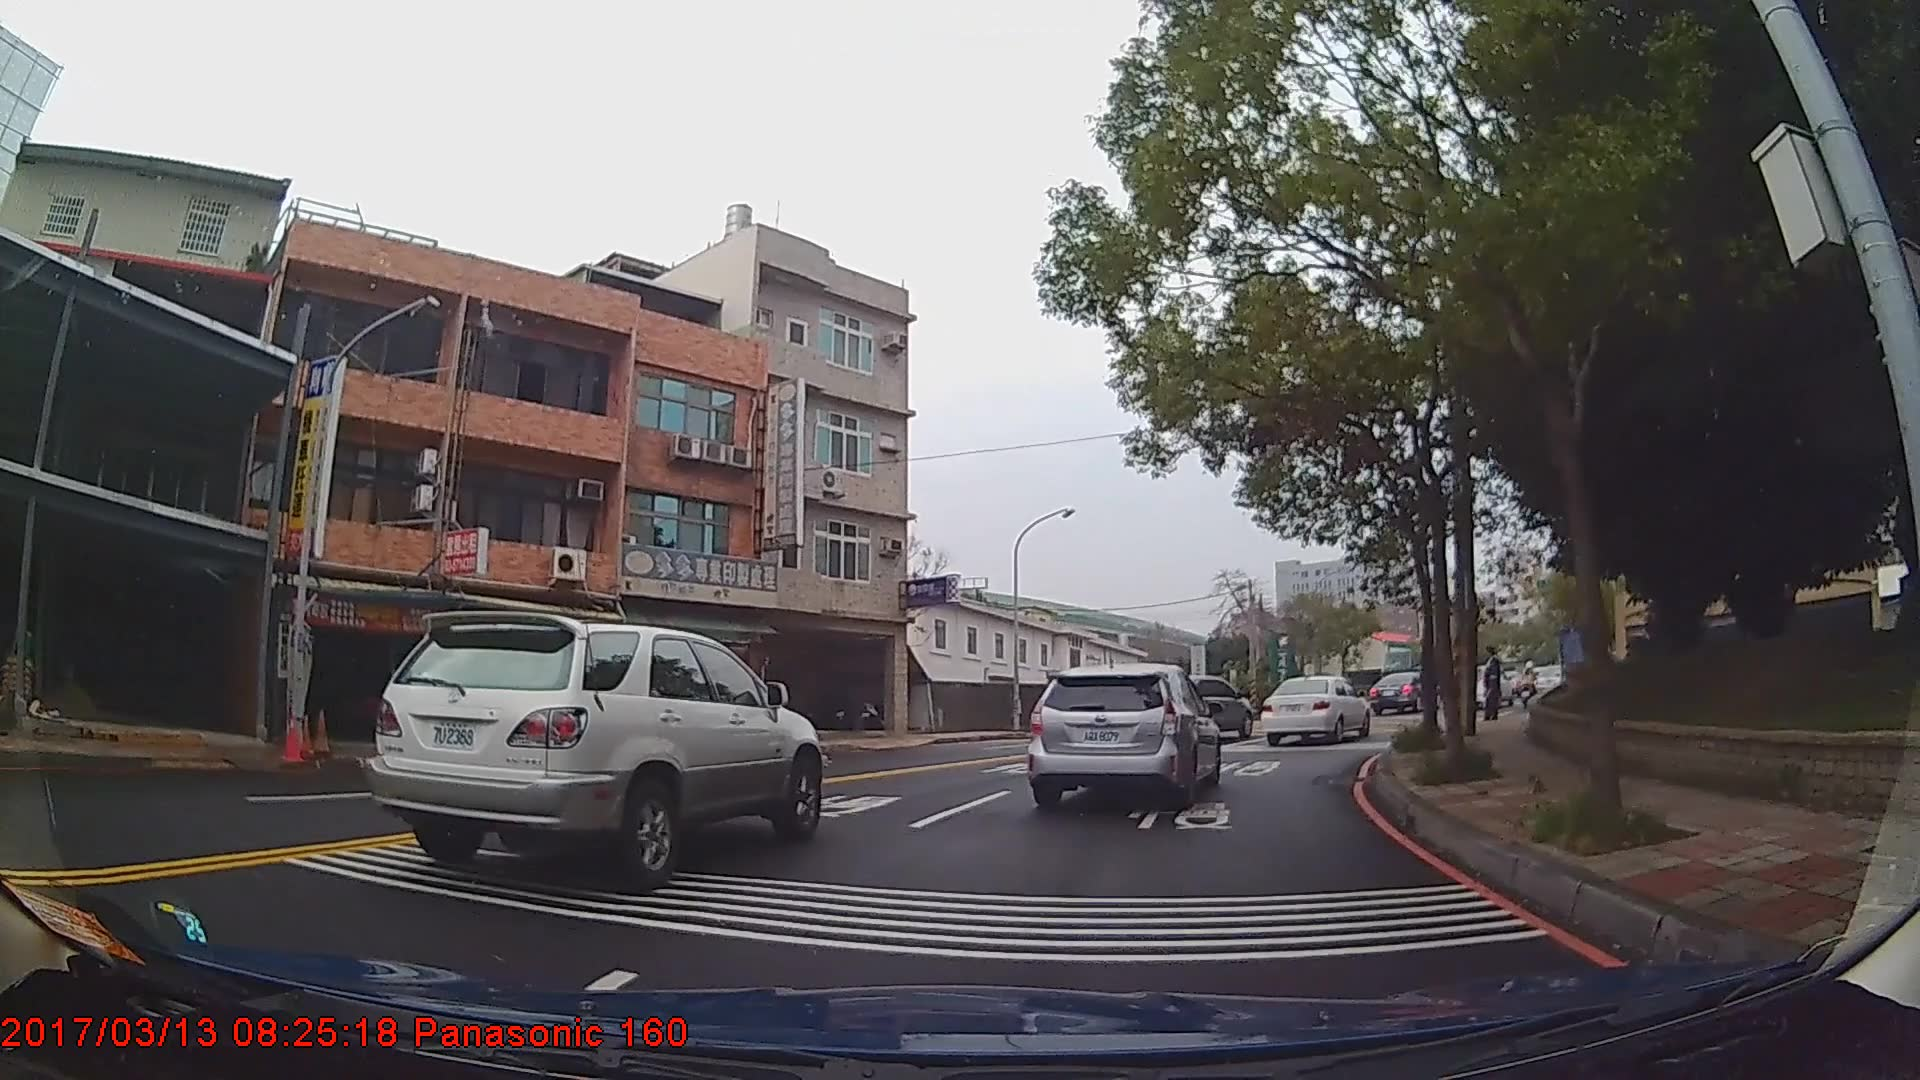vehicle: (364, 608, 825, 893), (1025, 661, 1220, 814), (1255, 673, 1369, 744), (1158, 673, 1255, 742), (1367, 667, 1436, 716)
